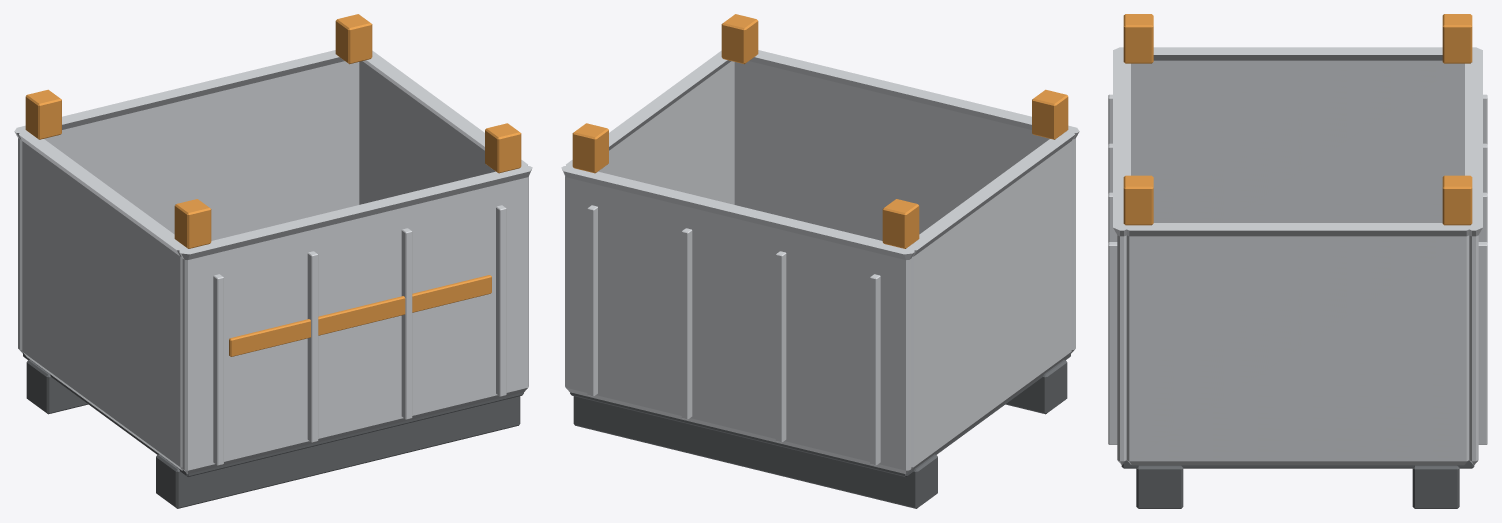
File: bulk-stillage-bin.glb
3 renders of one model, left to right at view 1: azimuth 30°, elevation 25°; view 2: azimuth 150°, elevation 25°; view 3: azimuth 270°, elevation 25°, orthographic. The views are drawn at different scales.
Visible parts, largest first — view 1: bulk-stillage-bin; view 2: bulk-stillage-bin; view 3: bulk-stillage-bin.
Boxes of the visible parts, x1,y1,x2,y2 form: bulk-stillage-bin: [14, 14, 532, 508]; bulk-stillage-bin: [561, 14, 1079, 508]; bulk-stillage-bin: [1108, 14, 1487, 508].
Bounding box in the file's own units: 1.02 × 0.83 × 0.892.
